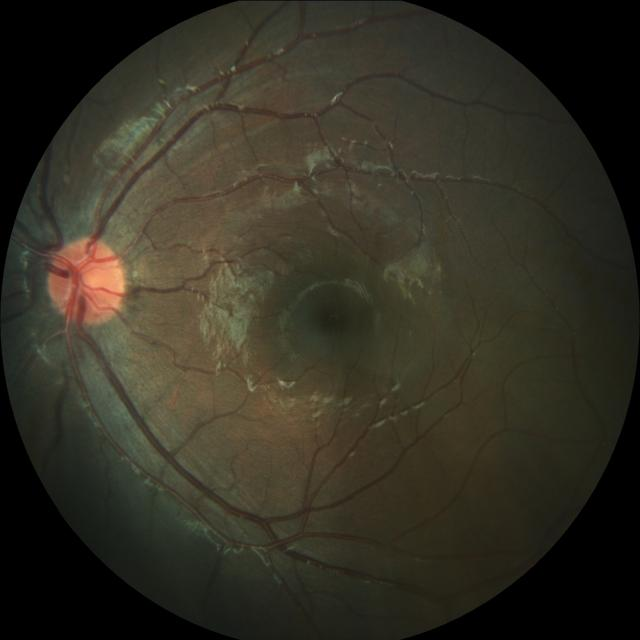OC: (74, 263, 106, 296)
OD: (50, 236, 128, 324)
